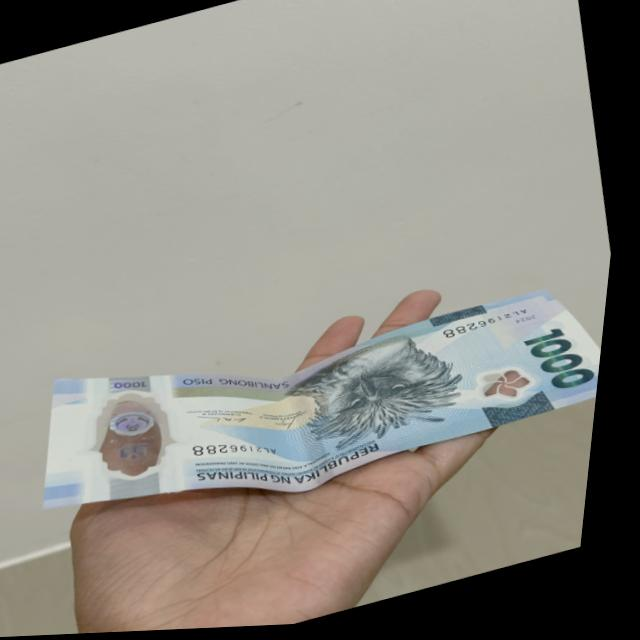clear_window: (85, 371, 199, 502)
eagle: (281, 337, 477, 464)
sampaguita: (481, 361, 545, 412)
